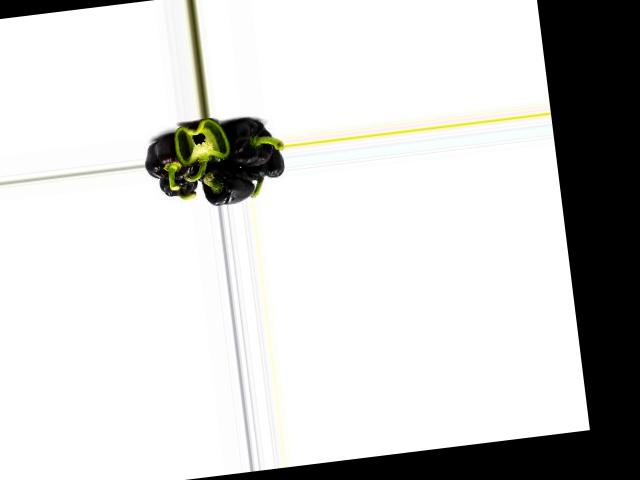bell_pepper: (143, 134, 205, 183)
